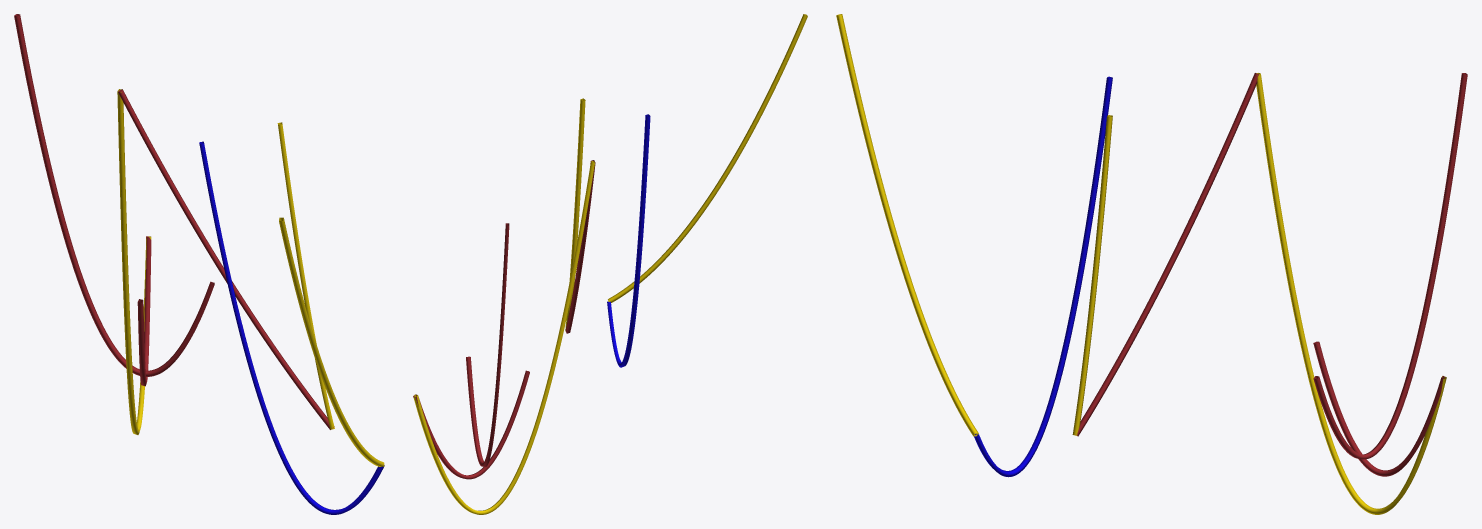
The model's file is Pipes_5 1.fbx.
The picture shows the model from 3 angles, left to right: view 1: azimuth 30°, elevation 25°; view 2: azimuth 150°, elevation 25°; view 3: azimuth 270°, elevation 25°; orthographic projection. The views are drawn at different scales.
Parts seen in each view (by area): view 1: Catenary.055, Catenary.053, Catenary.054, Catenary.070, Catenary.068, Catenary.052, Catenary.056; view 2: Catenary.054, Catenary.068, Catenary.053, Catenary.055, Catenary.052, Catenary.056, Catenary.070; view 3: Catenary.054, Catenary.055, Catenary.068, Catenary.053, Catenary.070, Catenary.052, Catenary.056.
Boxes of the visible parts, bbox=[...] form: Catenary.055: bbox=[14, 14, 214, 376]; Catenary.053: bbox=[199, 141, 384, 514]; Catenary.054: bbox=[117, 89, 151, 434]; Catenary.070: bbox=[118, 89, 334, 429]; Catenary.068: bbox=[279, 217, 384, 466]; Catenary.052: bbox=[277, 122, 334, 429]; Catenary.056: bbox=[137, 236, 151, 386]; Catenary.054: bbox=[413, 161, 594, 514]; Catenary.068: bbox=[608, 14, 807, 302]; Catenary.053: bbox=[607, 114, 650, 367]; Catenary.055: bbox=[466, 223, 509, 466]; Catenary.052: bbox=[565, 98, 585, 331]; Catenary.056: bbox=[413, 370, 529, 479]; Catenary.070: bbox=[565, 160, 595, 333]; Catenary.054: bbox=[1256, 73, 1446, 514]; Catenary.055: bbox=[1313, 73, 1467, 459]; Catenary.068: bbox=[836, 14, 978, 436]; Catenary.053: bbox=[974, 76, 1112, 477]; Catenary.070: bbox=[1076, 73, 1258, 436]; Catenary.052: bbox=[1072, 115, 1112, 435]; Catenary.056: bbox=[1313, 341, 1445, 476].
Bounding box in the file's own units: 381 × 915 × 1191.
